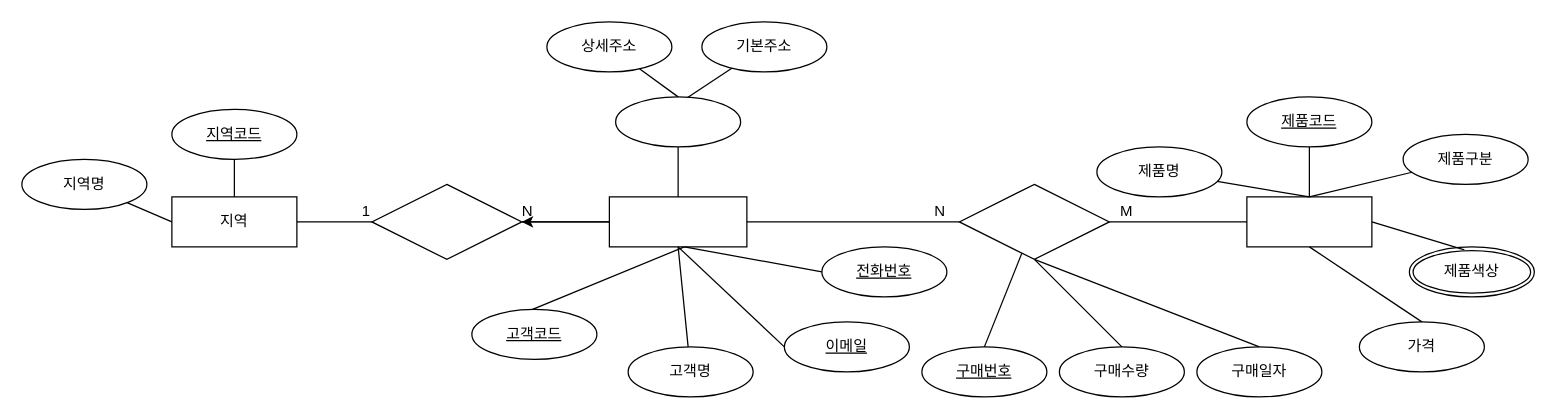
The diagram is 1556 pixels wide and 419 high, and some of its shapes have lost their labels. Each missing label, with the centre of its shape:
고객: (677,221)
관리: (446,221)
구매: (1033,221)
제품: (1309,221)
주소: (677,121)
